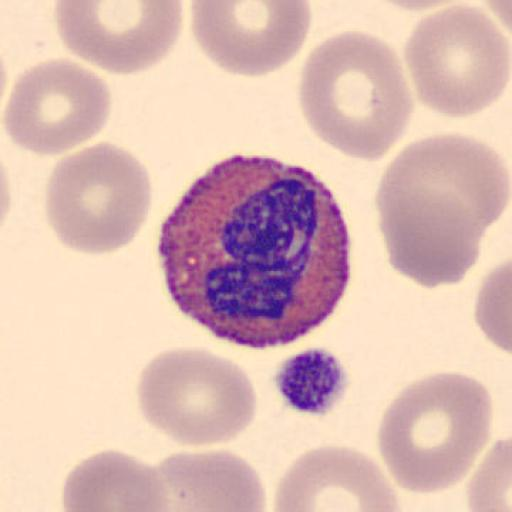Platelet: (270, 344, 352, 419)
RBC: (374, 130, 512, 290), (298, 28, 416, 164), (377, 131, 510, 244), (376, 370, 494, 496), (402, 1, 512, 120), (135, 344, 259, 449), (44, 140, 154, 256), (2, 56, 113, 157), (378, 187, 486, 290), (54, 0, 185, 76), (190, 0, 312, 78), (272, 443, 404, 512), (147, 447, 268, 512), (60, 447, 170, 512), (473, 256, 512, 359), (466, 434, 512, 512), (365, 0, 498, 14), (364, 0, 468, 13), (473, 0, 512, 31), (0, 156, 14, 236)
WBC: (157, 155, 354, 350)
